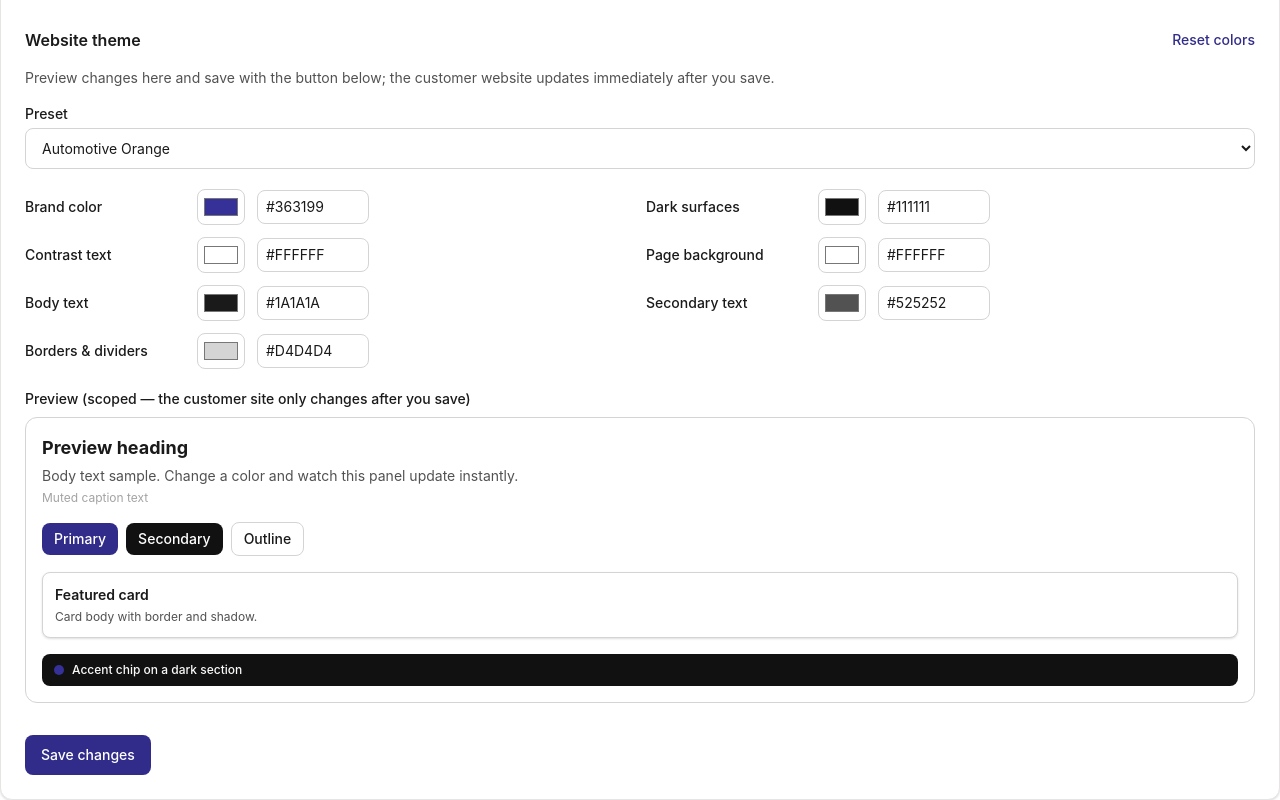
ShopSettingsAdminPage › shows a save error returned by the backend
(page scrolled)
Click the button "Save changes". click: (88, 755)
box: [25, 735, 151, 775]
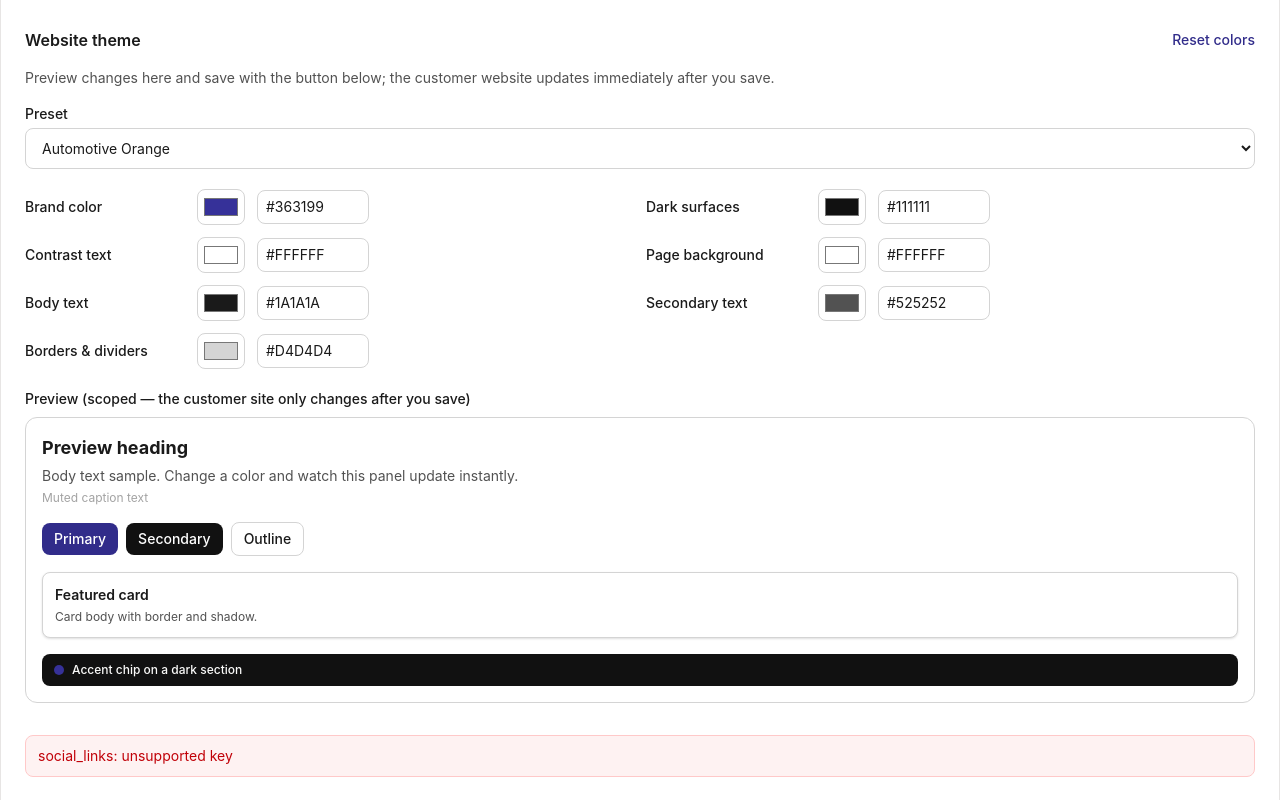
Expected: the message reads "social_links: unsupported key", [38, 747, 233, 764]
